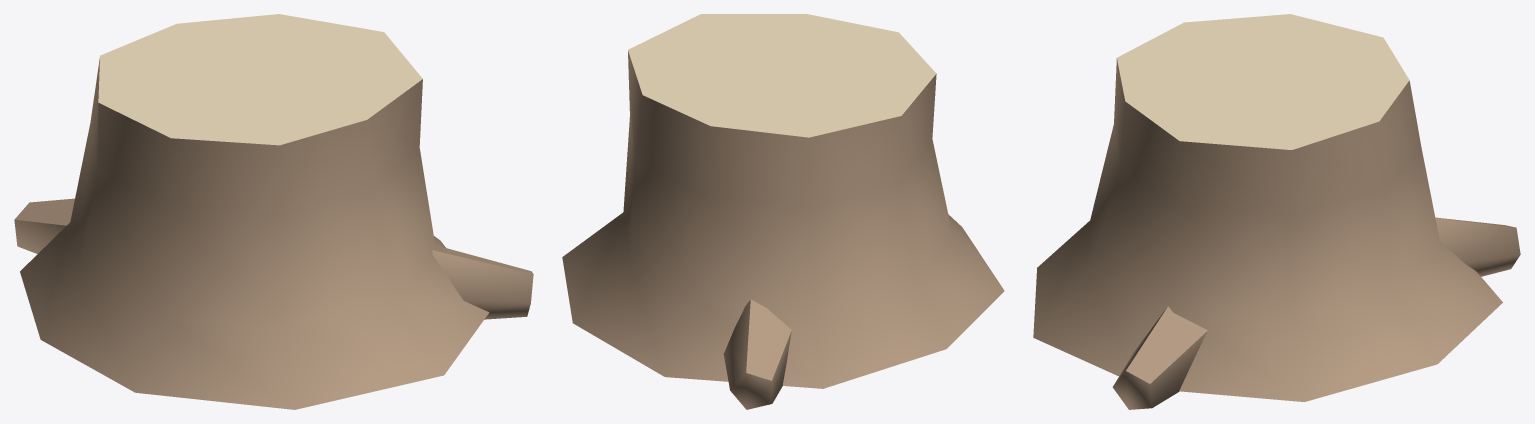
File: stump_A.glb
3 renders of one model, left to right at view 1: azimuth 30°, elevation 25°; view 2: azimuth 150°, elevation 25°; view 3: azimuth 270°, elevation 25°, orthographic. The views are drawn at different scales.
Visible parts, largest first — view 1: stump_A; view 2: stump_A; view 3: stump_A.
Boxes of the visible parts, left/top/right/bottom form: stump_A: left=14, top=14, right=533, bottom=409; stump_A: left=562, top=14, right=1004, bottom=409; stump_A: left=1033, top=14, right=1520, bottom=409.
Bounding box in the file's own units: 0.3791 × 0.2128 × 0.3974.
